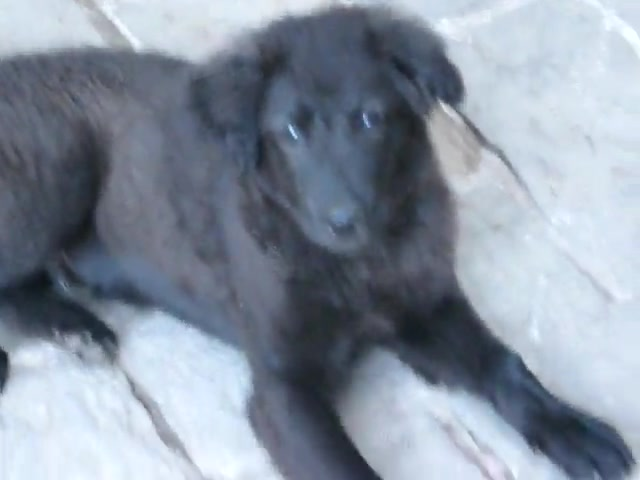dog: (1, 2, 639, 480)
